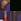helmet: (0, 0, 10, 11)
